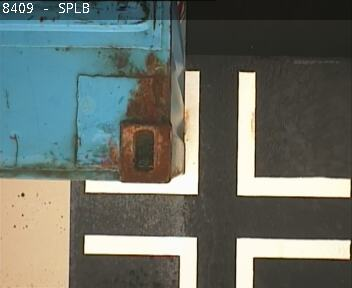groundmarker_1: (84, 72, 351, 198), (84, 233, 350, 288)
